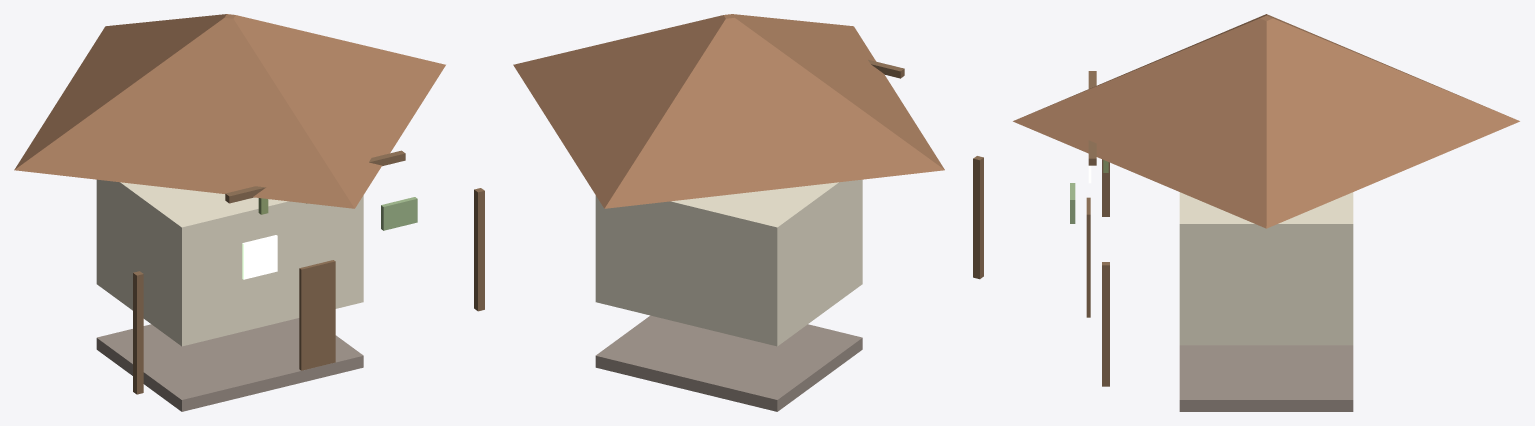
Rendered from Apothecary.fbx.
3 renders of one model, left to right at view 1: azimuth 30°, elevation 25°; view 2: azimuth 150°, elevation 25°; view 3: azimuth 270°, elevation 25°, orthographic.
Visible parts, largest first — view 1: Apothecary; view 2: Apothecary; view 3: Apothecary.
Boxes of the visible parts, x1,y1,x2,y2 form: Apothecary: [14, 14, 484, 411]; Apothecary: [513, 14, 983, 411]; Apothecary: [1013, 14, 1519, 411].
Size of the model in its own units: 380 by 288 by 380.
